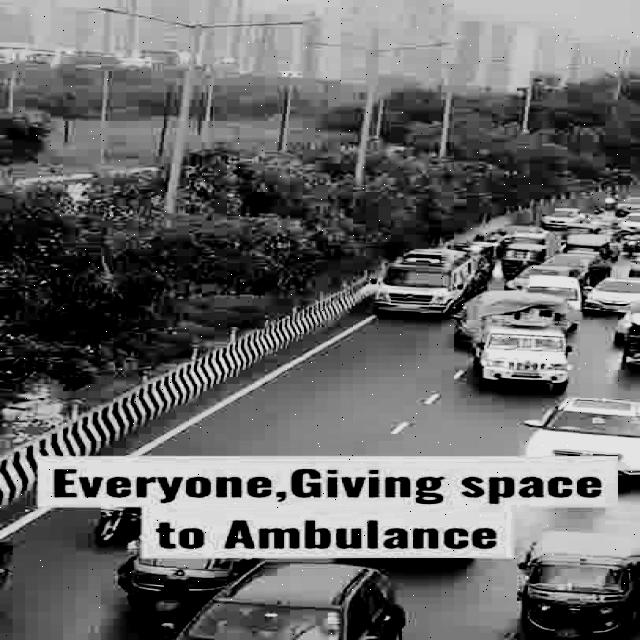Ambulance: (376, 240, 464, 321)
